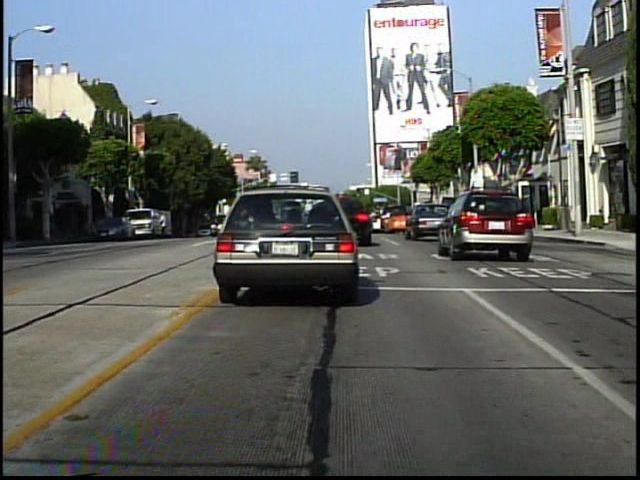person: (157, 208, 170, 243)
